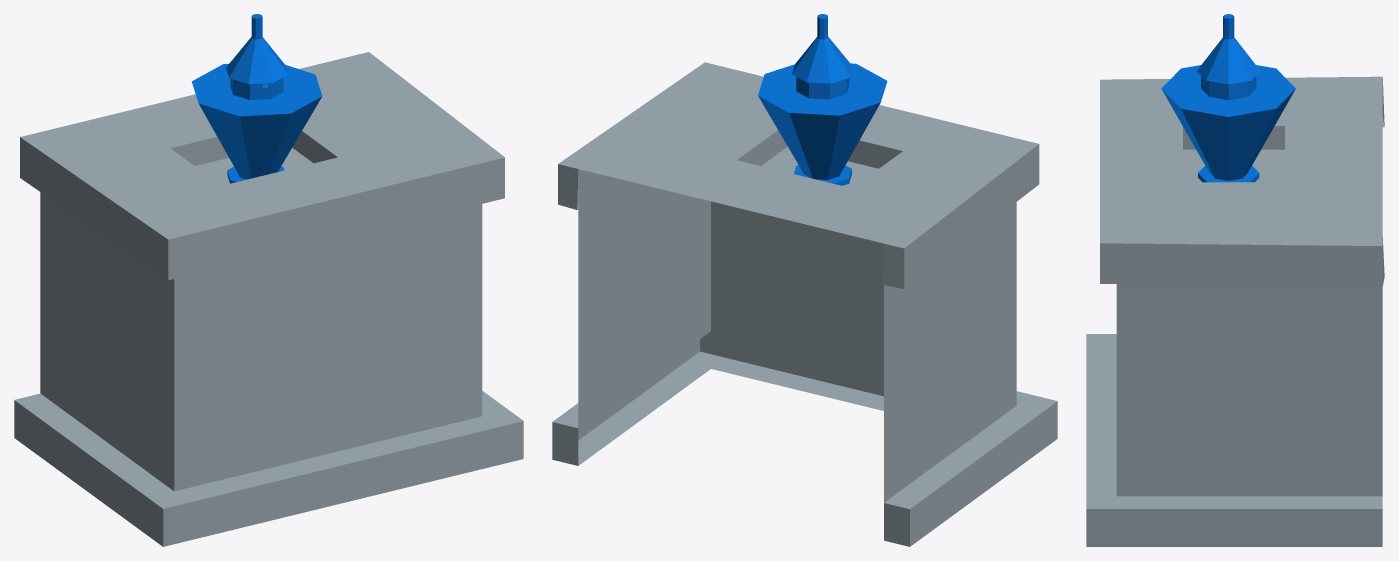
The model's file is sm_foundain.fbx.
3 renders of one model, left to right at view 1: azimuth 30°, elevation 25°; view 2: azimuth 150°, elevation 25°; view 3: azimuth 270°, elevation 25°, orthographic.
Visible parts, largest first — view 1: foundain; view 2: foundain; view 3: foundain.
Part boxes in pixels (x1,y1,x2,y2): foundain: (14, 14, 523, 546); foundain: (552, 14, 1057, 546); foundain: (1086, 14, 1384, 546).
Bounding box in the file's own units: 155 × 180 × 112.
